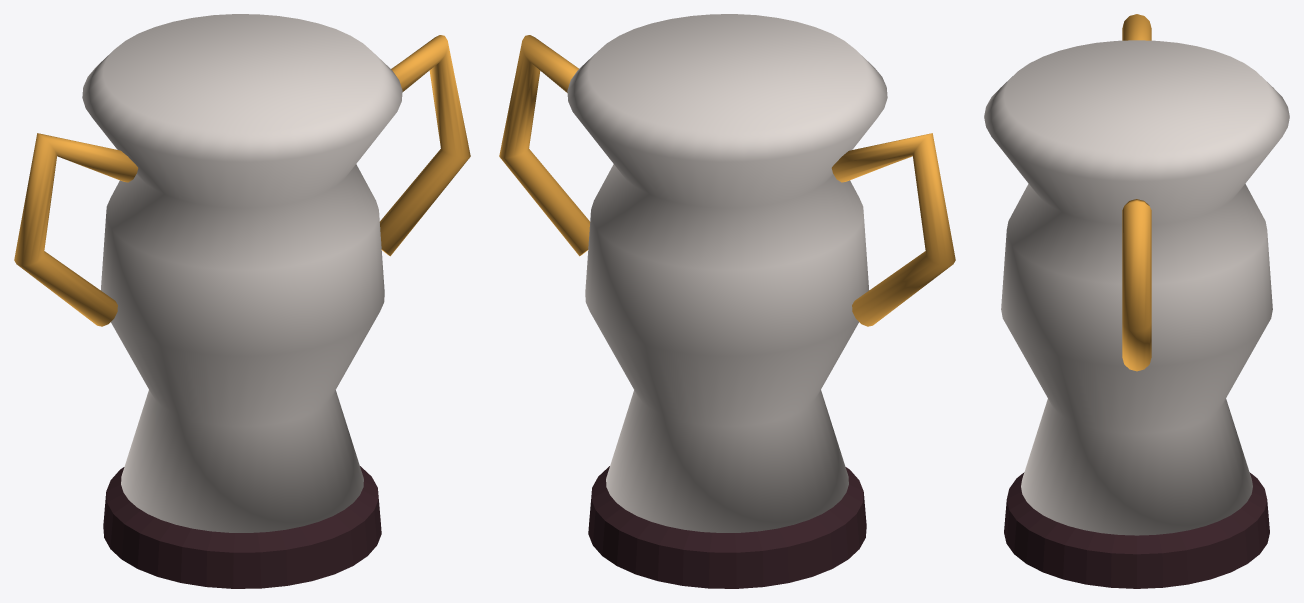
The model's file is gunners-cup-fairs.glb.
3 renders of one model, left to right at view 1: azimuth 30°, elevation 25°; view 2: azimuth 150°, elevation 25°; view 3: azimuth 270°, elevation 25°, orthographic. The views are drawn at different scales.
Parts seen in each view (by area): view 1: gunners-cup-fairs · Chased silver, gunners-cup-fairs · Ebonized wood, gunners-cup-fairs · Gilt; view 2: gunners-cup-fairs · Chased silver, gunners-cup-fairs · Ebonized wood, gunners-cup-fairs · Gilt; view 3: gunners-cup-fairs · Chased silver, gunners-cup-fairs · Ebonized wood, gunners-cup-fairs · Gilt.
Boxes of the visible parts, left/top/right/bottom form: gunners-cup-fairs · Chased silver: left=82, top=14, right=402, bottom=532; gunners-cup-fairs · Ebonized wood: left=103, top=466, right=381, bottom=588; gunners-cup-fairs · Gilt: left=14, top=35, right=470, bottom=326; gunners-cup-fairs · Chased silver: left=567, top=14, right=887, bottom=532; gunners-cup-fairs · Ebonized wood: left=588, top=466, right=866, bottom=588; gunners-cup-fairs · Gilt: left=499, top=35, right=955, bottom=326; gunners-cup-fairs · Chased silver: left=984, top=40, right=1289, bottom=535; gunners-cup-fairs · Ebonized wood: left=1004, top=472, right=1269, bottom=588; gunners-cup-fairs · Gilt: left=1122, top=14, right=1151, bottom=371.
Size of the model in its own units: 1.76 by 1.7 by 1.08.
